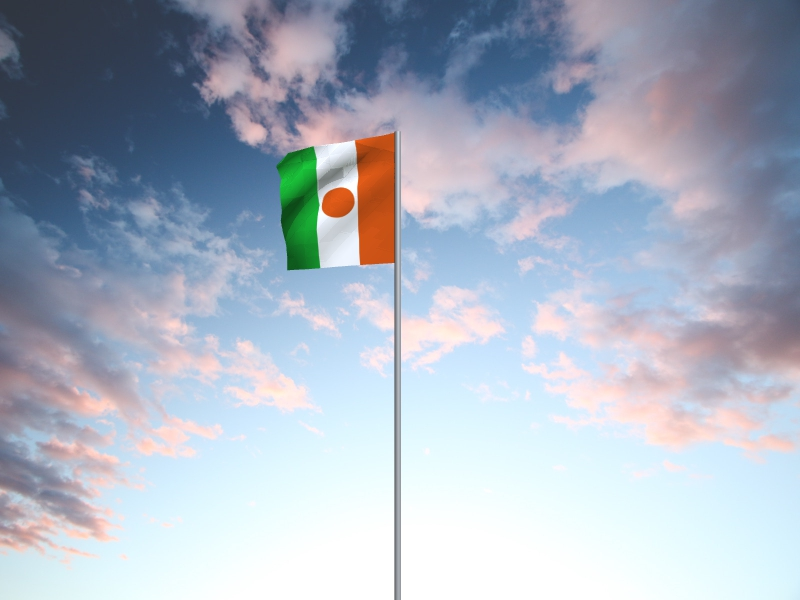ne: (275, 133, 395, 272)
